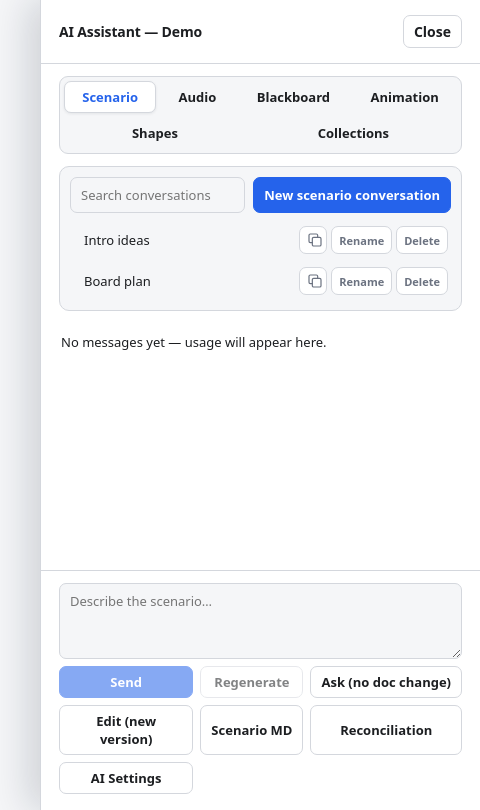
Test: AiPanel foundation › filters conversations client-side by title and content
This screenshot has width=480, height=810.
Expected: the list item with test id "ai-conversation-c-1" is shown, [70, 221, 451, 259]
Type "cat" into the field with test id "ai-search" at (158, 195), box [70, 177, 245, 213]
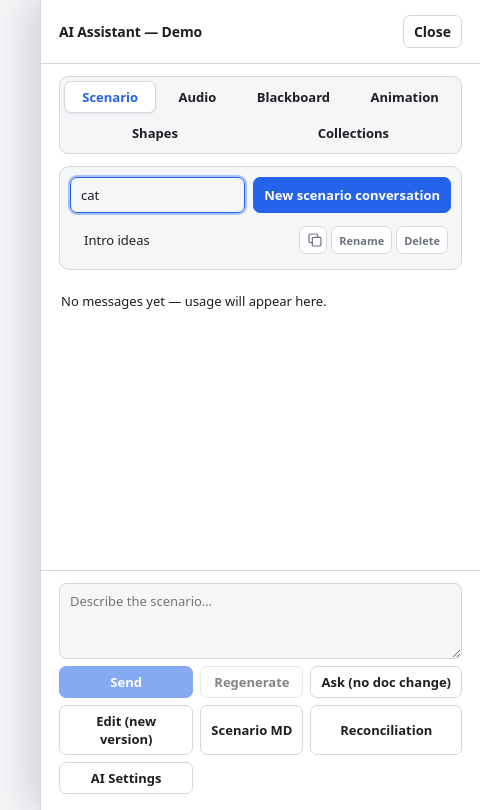
Expected: the list item with test id "ai-conversation-c-1" is shown, [70, 221, 451, 259]
Result: the list item with test id "ai-conversation-c-2" is gone
